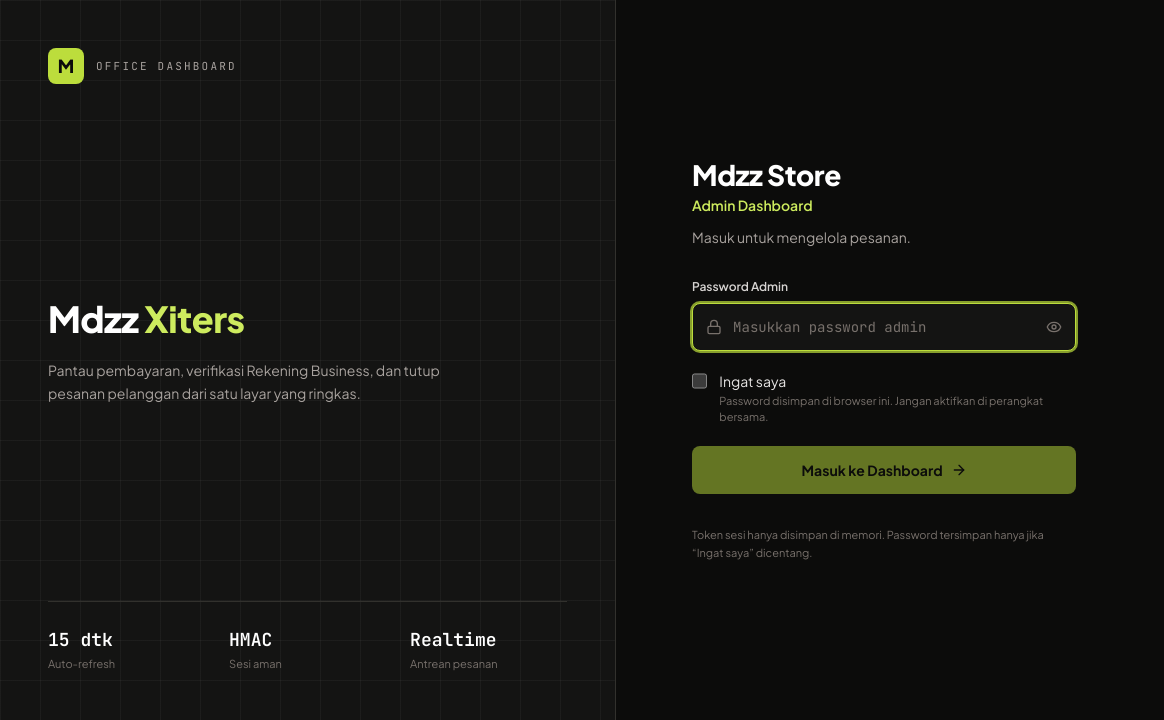
Test: App Integration › automatically logs out to login screen when 401 Unauthorized occurs
In the password field with placeholder "Masukkan password admin": coordinates (884, 327) [692,303,1076,351], type "mypassword"
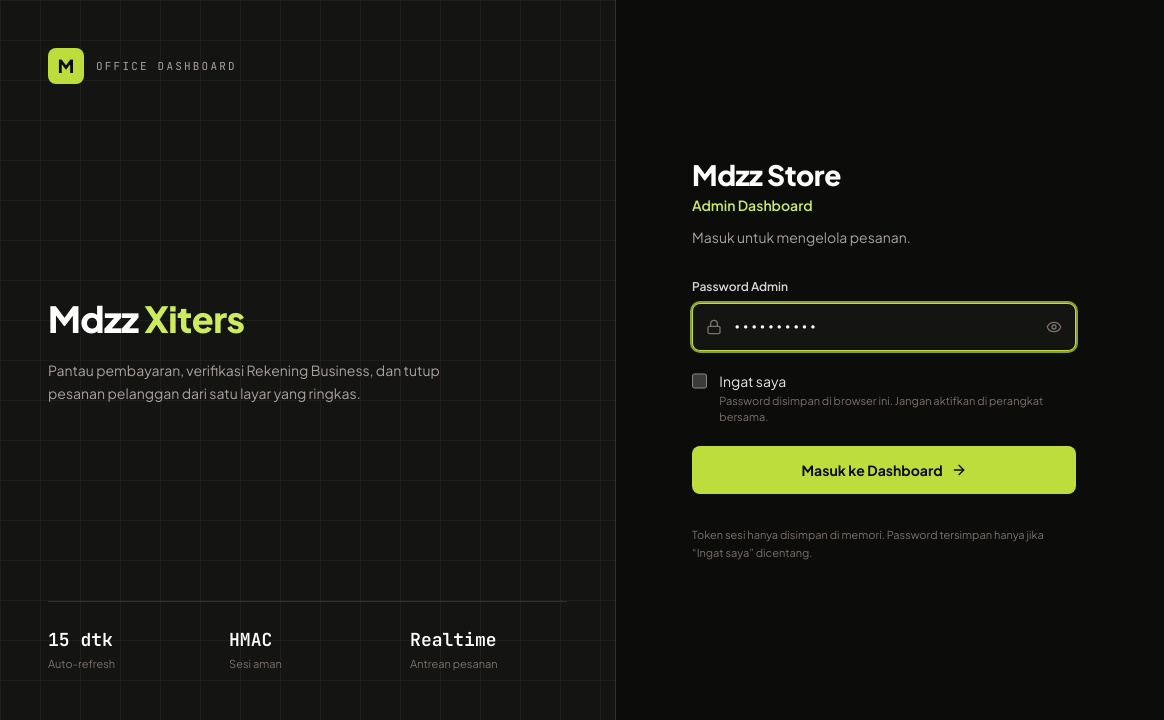
Click the button with aria-label "masuk dashboard": coordinates (884, 470) [692,446,1076,494]
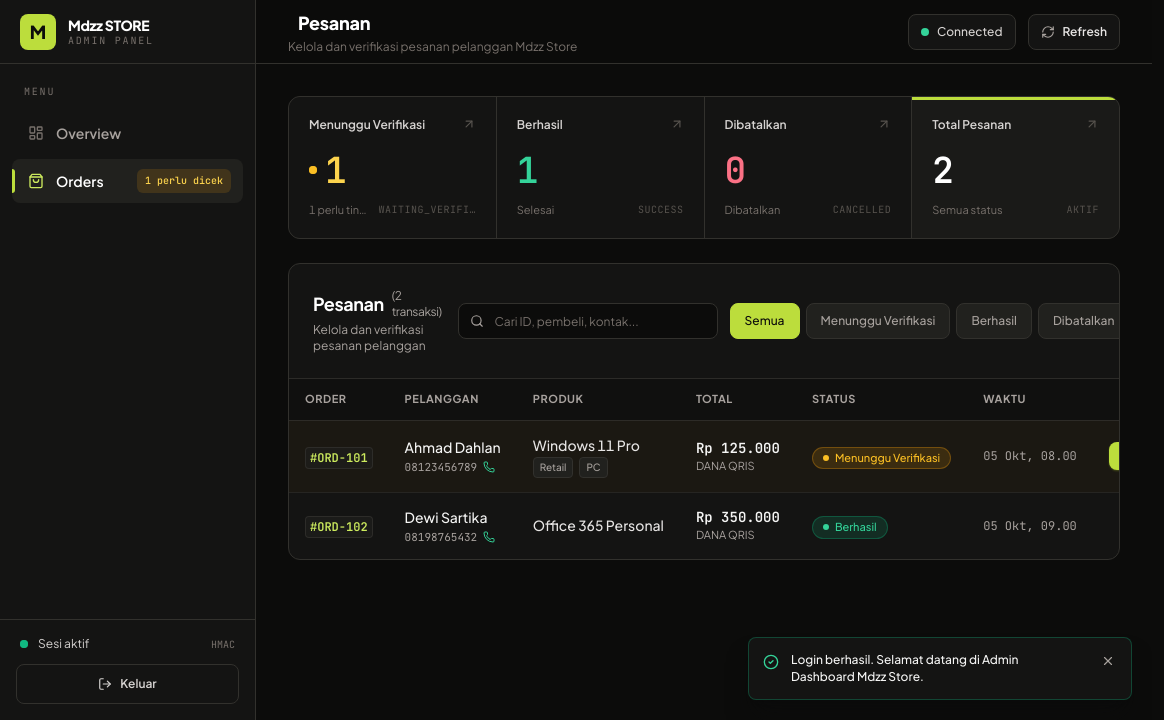
Check: the text "Connected" is shown, box [937,24,1002,40]
// Click refresh to trigger the second call which returns 401
Click the button "Refresh": coordinates (1074, 32) [1028,14,1120,50]
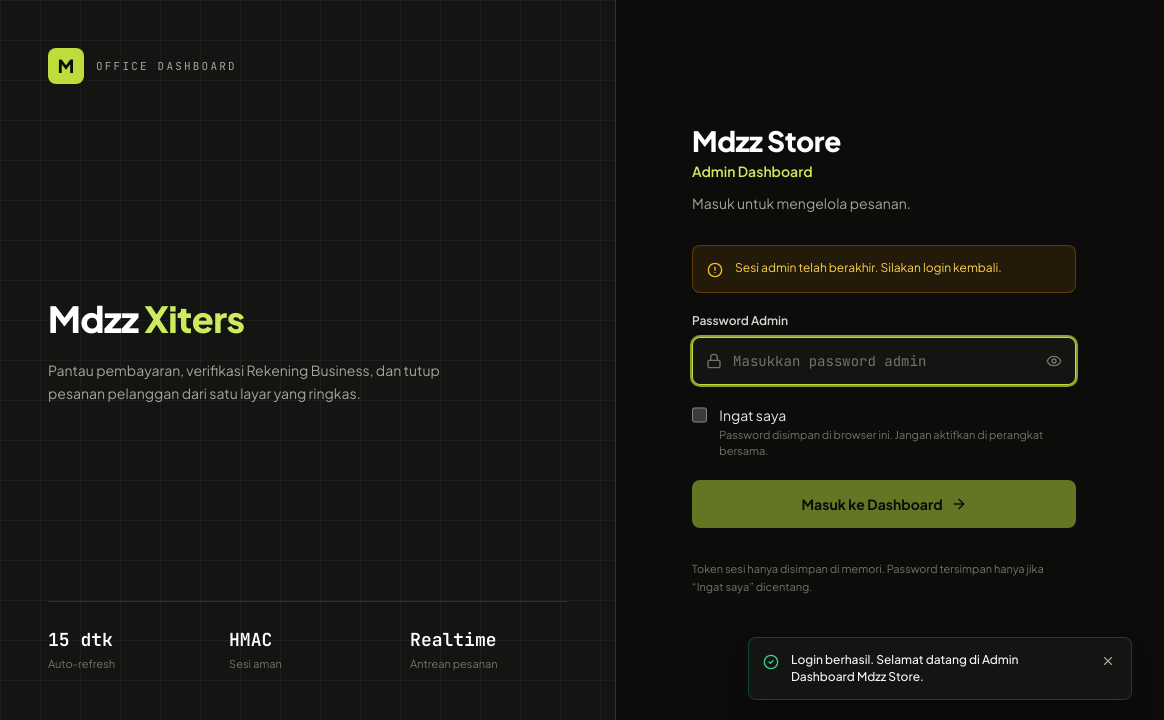
Check: the text "Sesi admin telah berakhir. Silakan login kembali." is shown, box [735,260,1002,276]
Check: the password field with placeholder "Masukkan password admin" is shown, box [692,337,1076,385]
